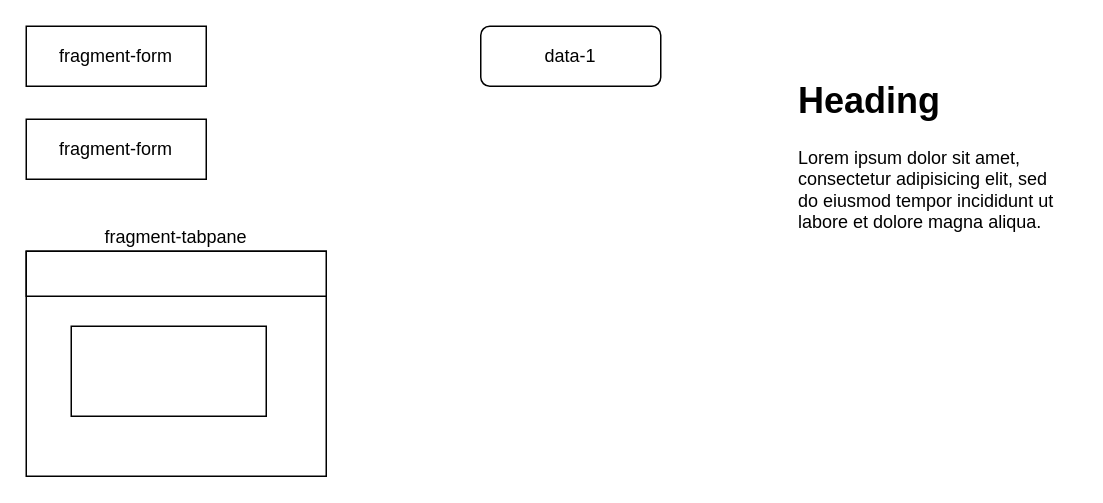
Some shapes in this 1103 by 503 pixel diagram are drawn without their labels. Here are the shapes that lost their labels. From the top down, the centre of each, then its label:
point 175,273: tabpane[1]
point 168,370: listView
